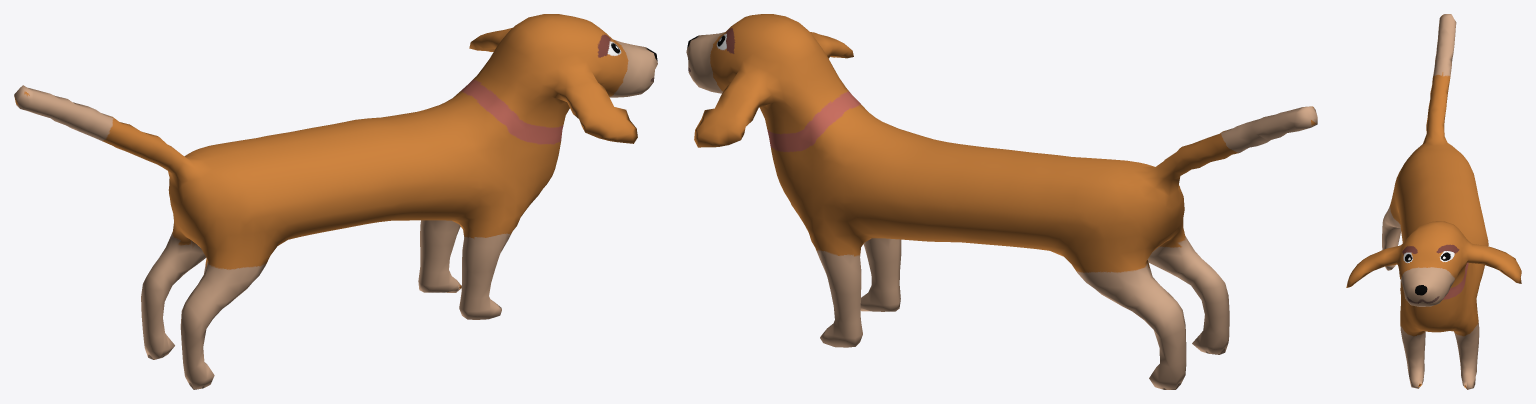
File: dog_aug_5.obj
3 views of the same model, side by side, from view 1: azimuth 30°, elevation 25°; view 2: azimuth 150°, elevation 25°; view 3: azimuth 270°, elevation 25° (orthographic). The views are drawn at different scales.
Bounding box in the file's own units: 96.1 × 48.06 × 33.94.
1 material, 1 textured.
